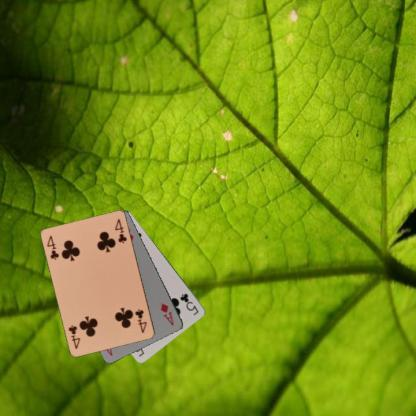4c: (132, 306, 148, 335), (44, 233, 60, 261)
5c: (177, 290, 200, 316)
Ad: (158, 300, 175, 327)
